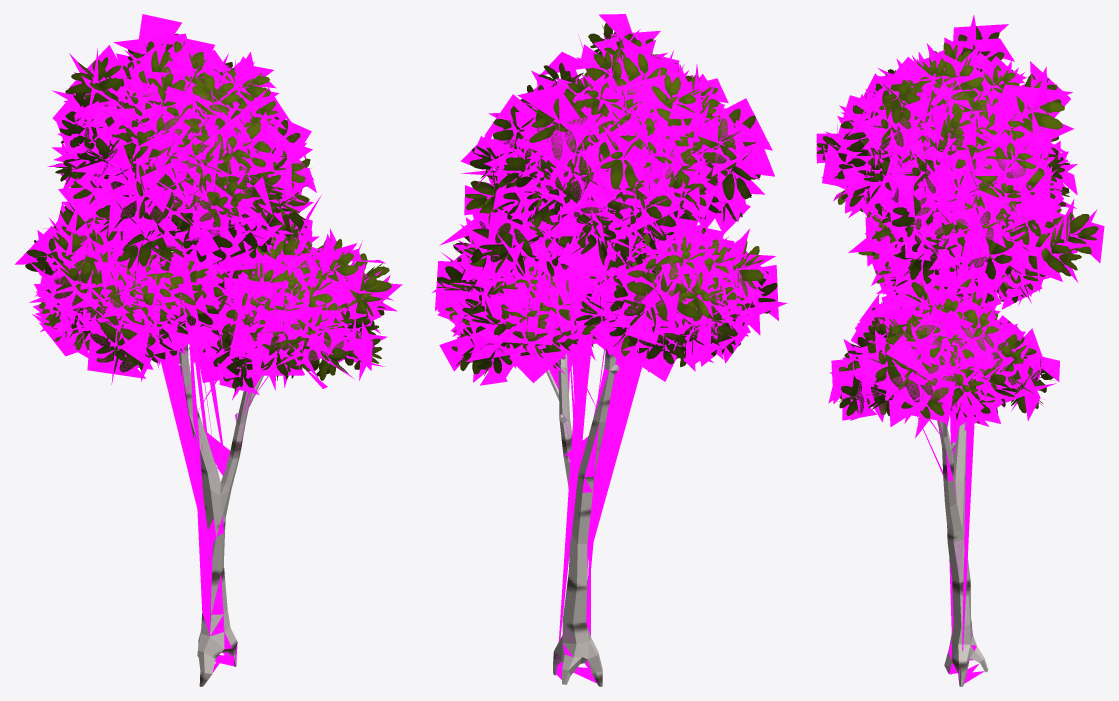
File: SM_Env_Tree_Birch_03.glb
3 renders of one model, left to right at view 1: azimuth 30°, elevation 25°; view 2: azimuth 150°, elevation 25°; view 3: azimuth 270°, elevation 25°, orthographic. The views are drawn at different scales.
Visible parts, largest first — view 1: SM_Env_Tree_Birch_03; view 2: SM_Env_Tree_Birch_03; view 3: SM_Env_Tree_Birch_03.
Boxes of the visible parts, x1=… form: SM_Env_Tree_Birch_03: x1=15, y1=14, x2=402, y2=686; SM_Env_Tree_Birch_03: x1=431, y1=14, x2=787, y2=686; SM_Env_Tree_Birch_03: x1=816, y1=15, x2=1104, y2=686.
Size of the model in its own units: 2.74 by 5 by 2.11.
2 materials, 1 textured.
